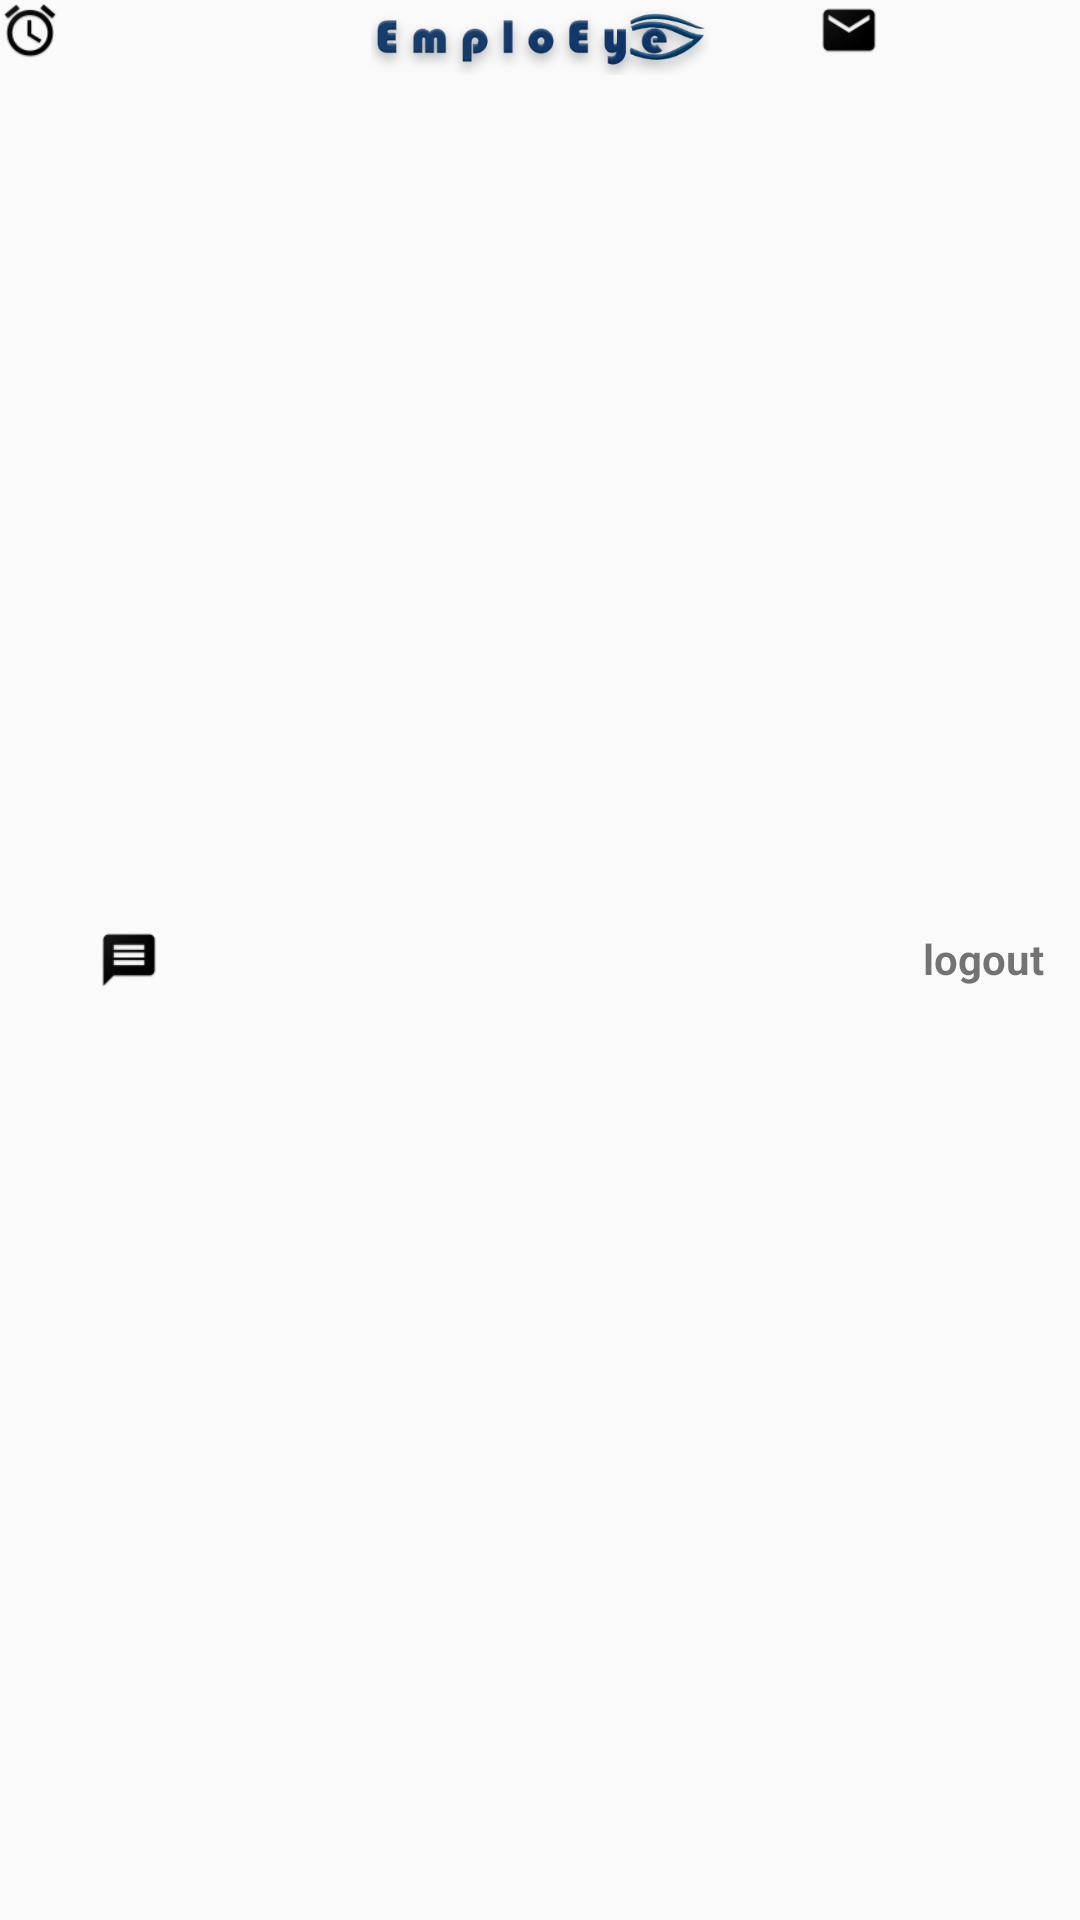

Point at icon controls on the screen. Image size 1080 × 1920, points as [x,y].
alarm: [30,30]
message: [129,959]
